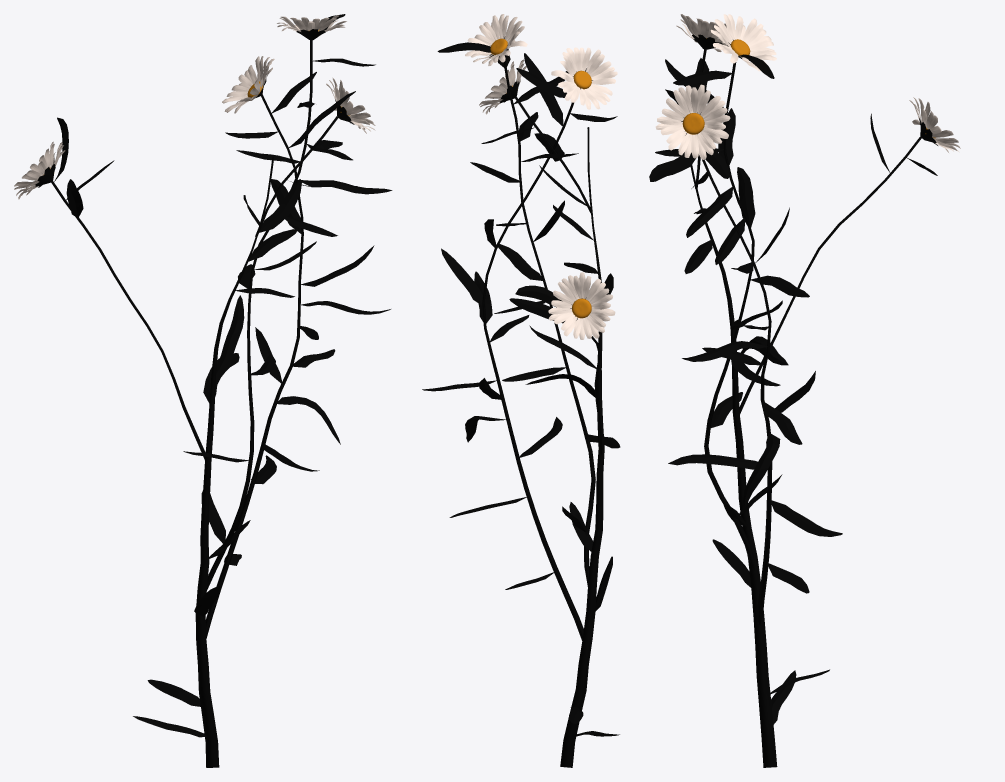
3 renders of one model, left to right at view 1: azimuth 30°, elevation 25°; view 2: azimuth 150°, elevation 25°; view 3: azimuth 270°, elevation 25°, orthographic. The views are drawn at different scales.
Visible parts, largest first — view 1: iFlowers-01_49; view 2: iFlowers-01_49; view 3: iFlowers-01_49.
Part boxes in pixels (bbox=[...]): iFlowers-01_49: bbox=[14, 14, 392, 767]; iFlowers-01_49: bbox=[422, 14, 620, 767]; iFlowers-01_49: bbox=[649, 14, 960, 767].
Bounding box in the file's own units: 205 × 545 × 214.
